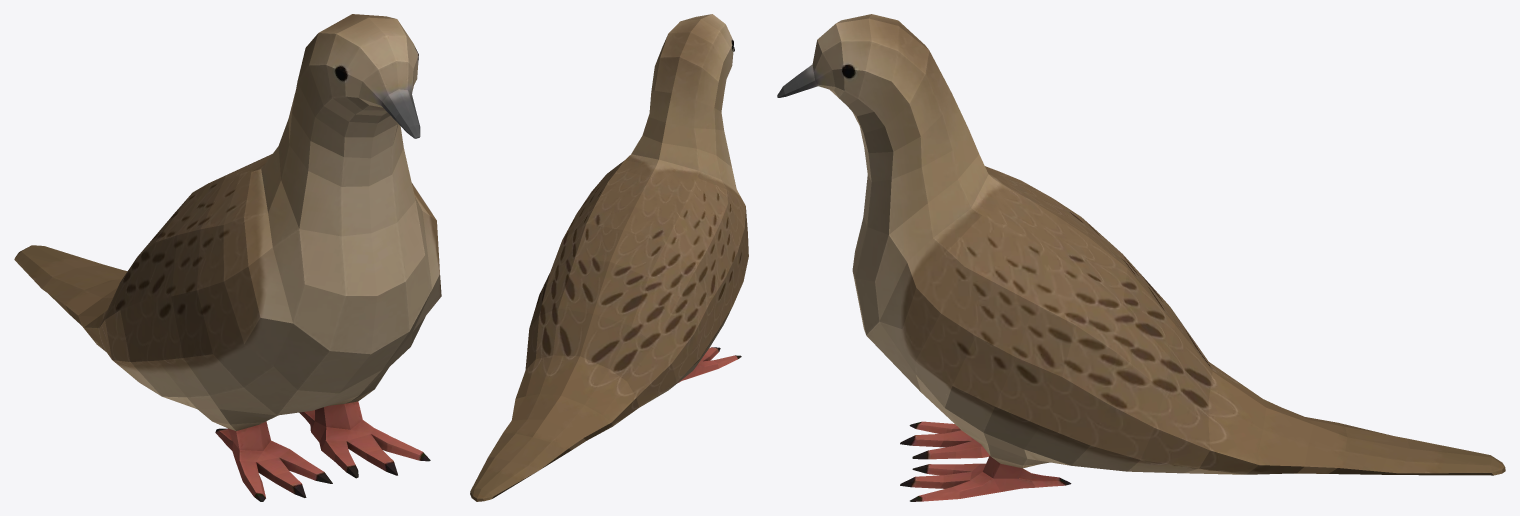
Rendered from 1cF8DTp2sAi.glb.
The picture shows the model from 3 angles, left to right: view 1: azimuth 30°, elevation 25°; view 2: azimuth 150°, elevation 25°; view 3: azimuth 270°, elevation 25°; orthographic projection. The views are drawn at different scales.
Visible parts, largest first — view 1: MourningDoves_Mesh; view 2: MourningDoves_Mesh; view 3: MourningDoves_Mesh.
Part boxes in pixels (x1,y1,x2,y2): MourningDoves_Mesh: (14,14,441,501); MourningDoves_Mesh: (470,14,748,501); MourningDoves_Mesh: (777,14,1505,501).
Bounding box in the file's own units: 0.5104 × 1 × 1.46.
1 material, 1 textured.
